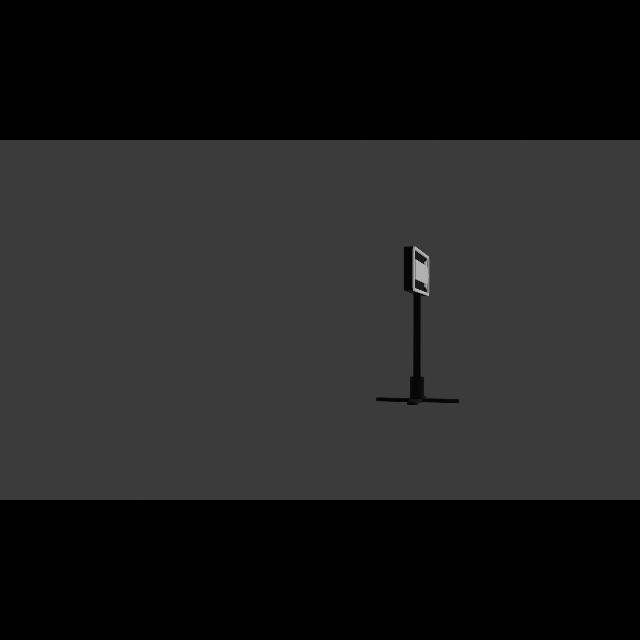sign_oneway_right: (403, 245, 433, 299)
